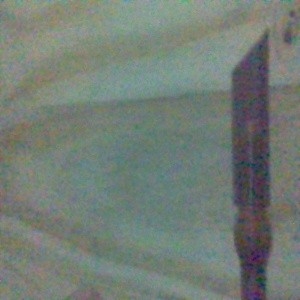cutter: (229, 25, 276, 300)
